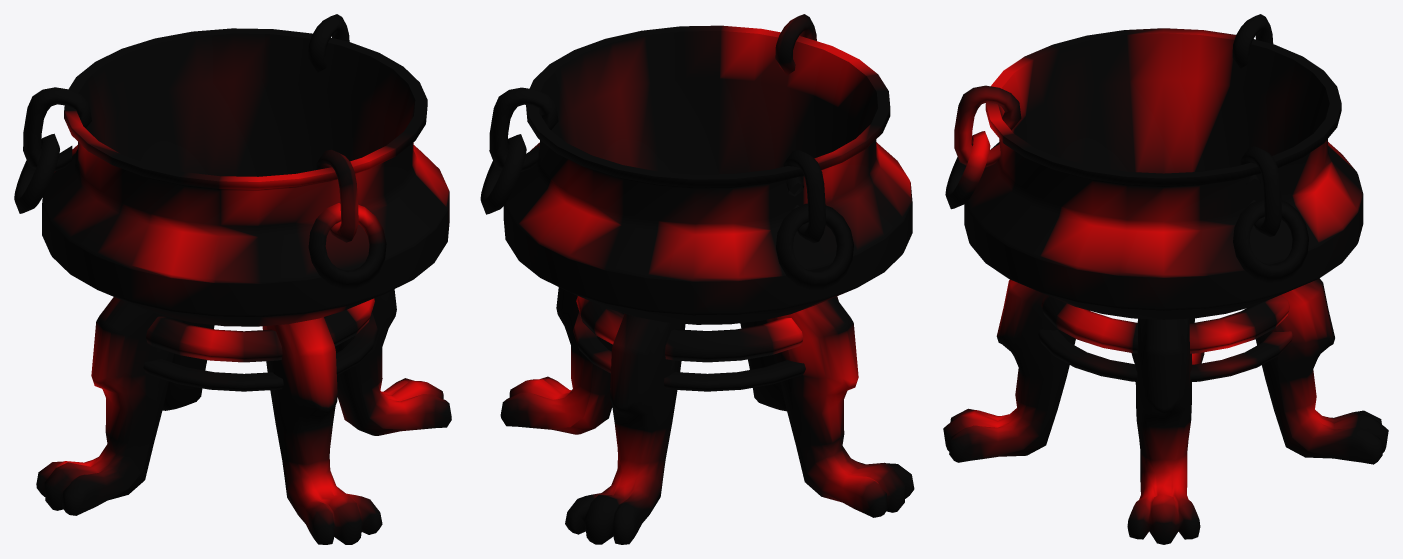
Rendered from SM_Large_Bowl.FBX.
The picture shows the model from 3 angles, left to right: view 1: azimuth 30°, elevation 25°; view 2: azimuth 150°, elevation 25°; view 3: azimuth 270°, elevation 25°; orthographic projection. The views are drawn at different scales.
Visible parts, largest first — view 1: Prop_Large_Bowl; view 2: Prop_Large_Bowl; view 3: Prop_Large_Bowl.
Part boxes in pixels (bbox=[...]): Prop_Large_Bowl: bbox=[14, 14, 451, 544]; Prop_Large_Bowl: bbox=[480, 14, 914, 544]; Prop_Large_Bowl: bbox=[943, 14, 1388, 544].
Bounding box in the file's own units: 99.93 × 91.68 × 99.93.
